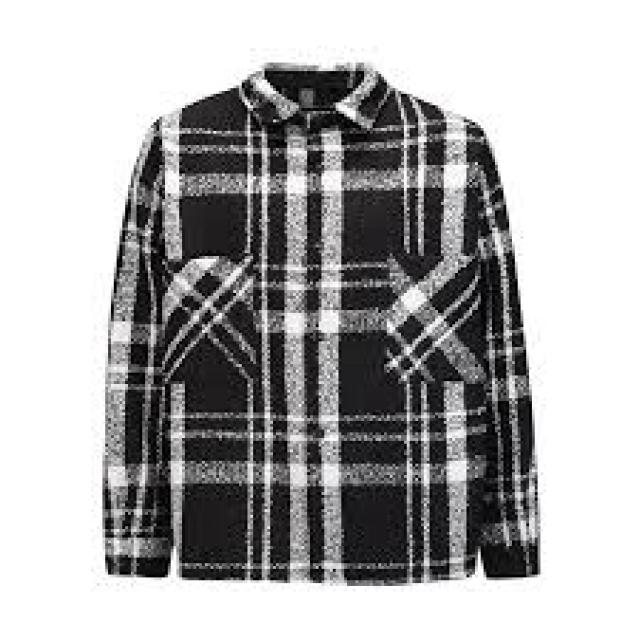plaid: (95, 65, 543, 580)
